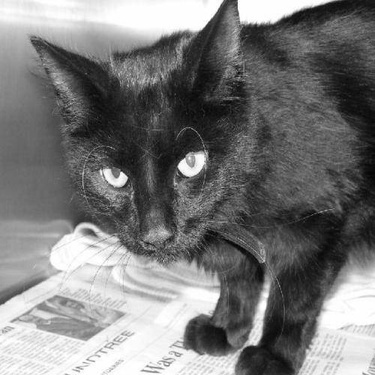cat: (28, 1, 374, 373)
